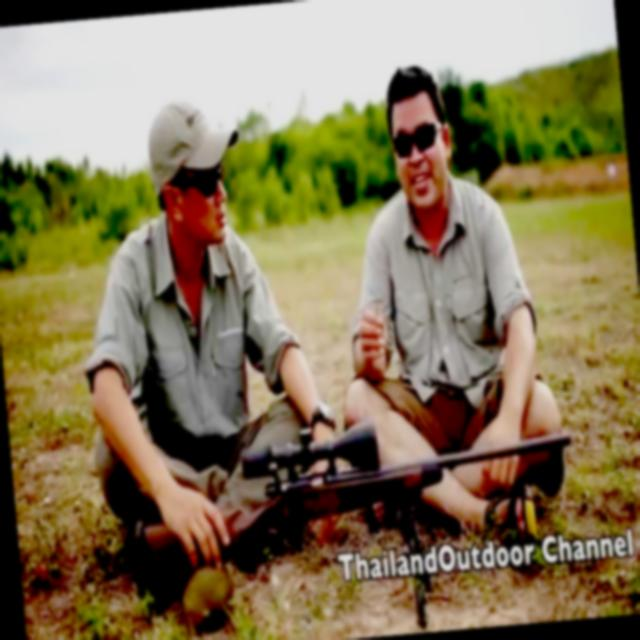rifle: (115, 390, 578, 628)
